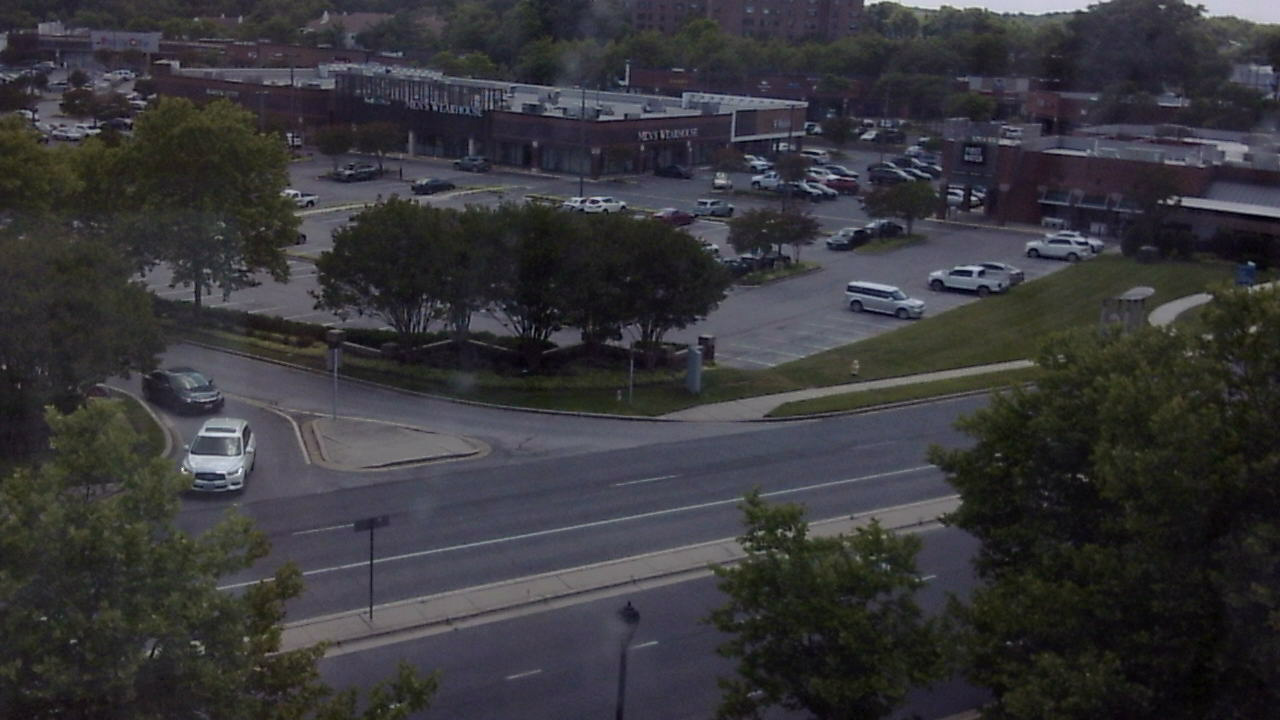Car: (180, 408, 255, 506), (142, 362, 239, 422)
